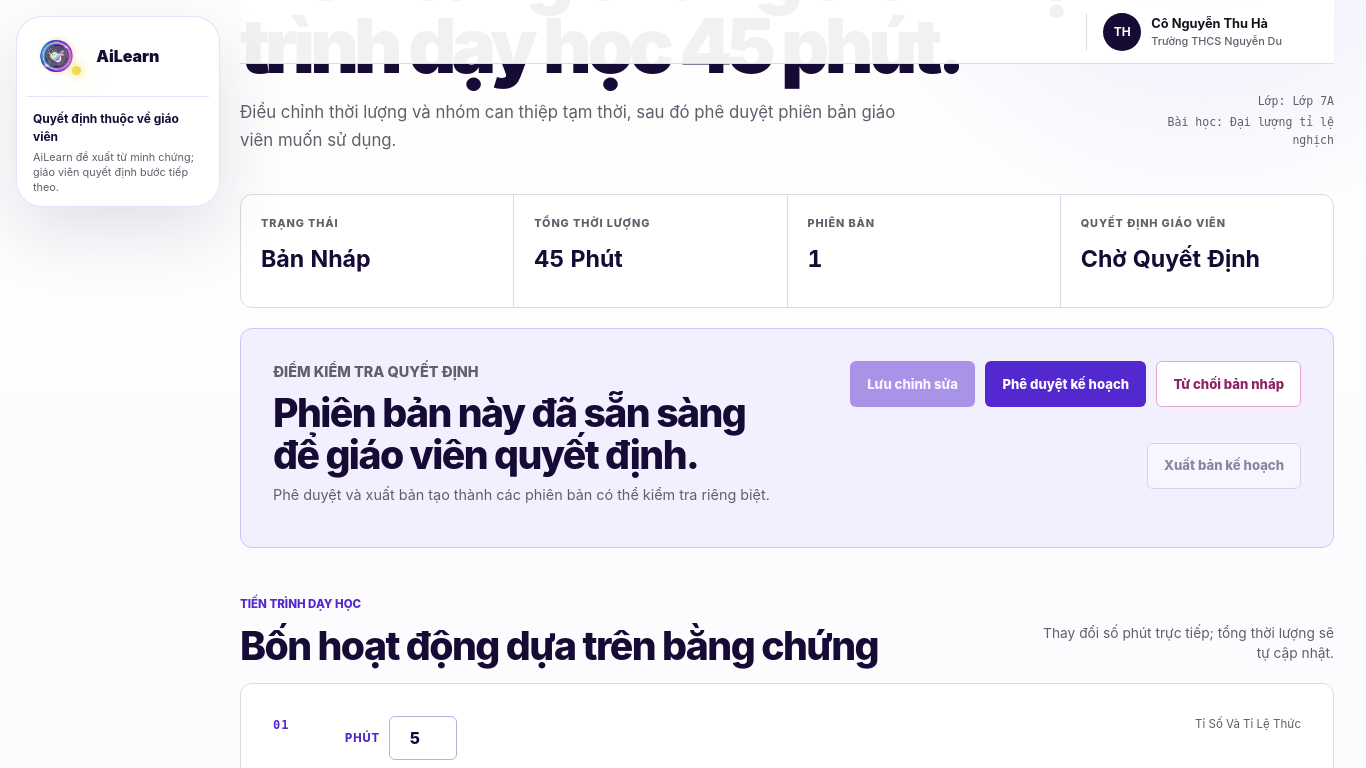
it: TeacherWorkspace › loads and approves a lesson plan through the configured API
The image size is (1366, 768).
(page scrolled)
What coordinates should you click on to do the following:
click the button "Phê duyệt kế hoạch"
I would click on:
 (1066, 384)
Its box is top-left (986, 362), bottom-right (1146, 408).
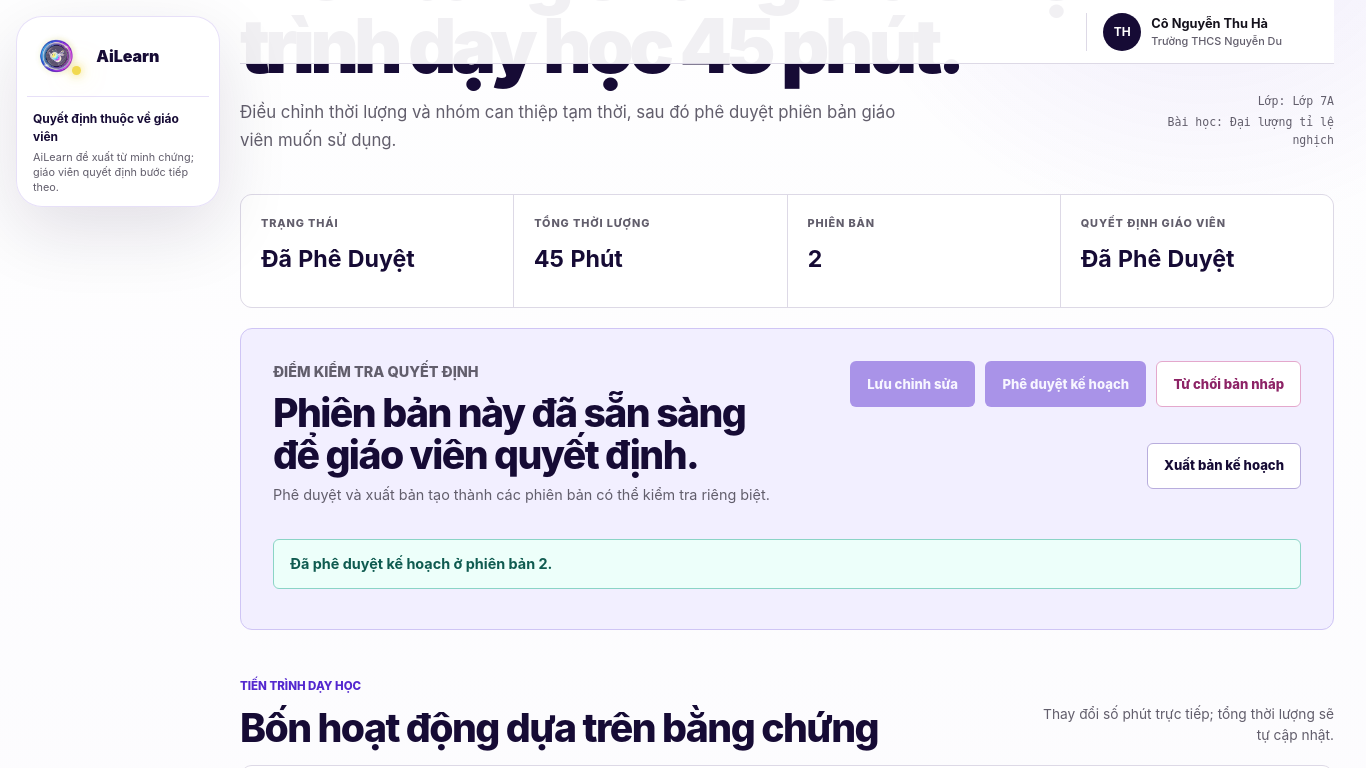
Expected: the text "Đã phê duyệt" is shown 2 times, top-left (261, 245), bottom-right (415, 273); top-left (1081, 245), bottom-right (1235, 273)
Now the message reads "Đã phê duyệt kế hoạch ở phiên bản 2.", box top-left (290, 555), bottom-right (552, 572)
